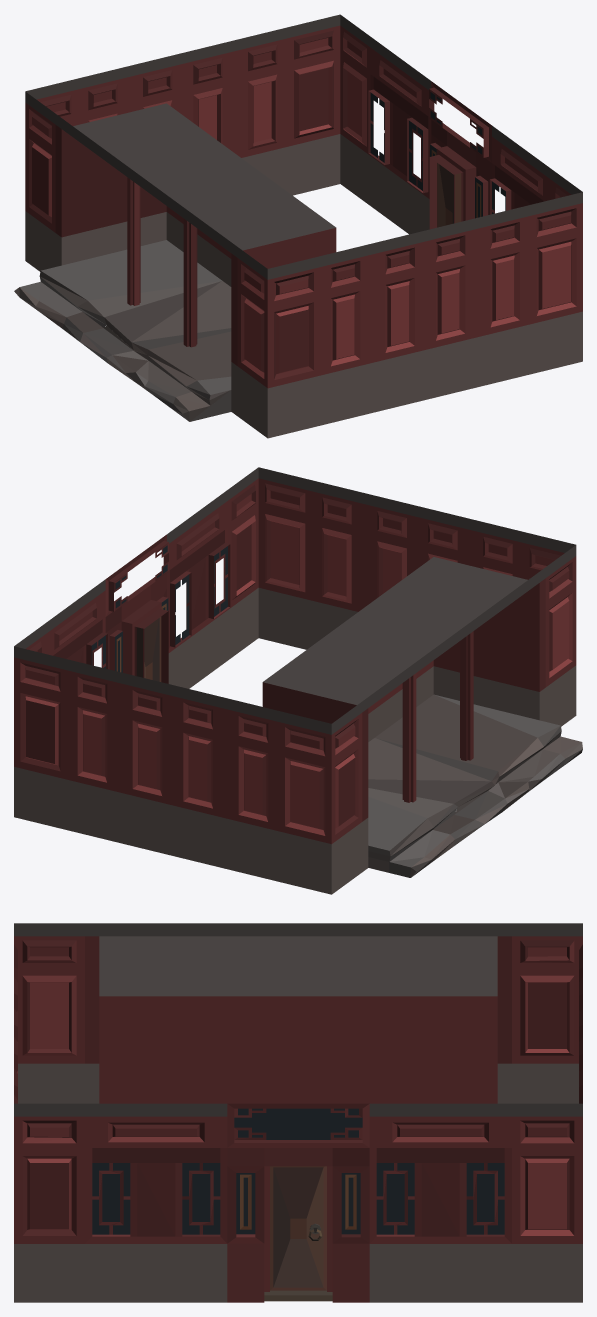
File: BuildingA-Sm_C.fbx
3 views of the same model, one above another, from view 1: azimuth 30°, elevation 25°; view 2: azimuth 150°, elevation 25°; view 3: azimuth 270°, elevation 25° (orthographic). The views are drawn at different scales.
Visible parts, largest first — view 1: BuildingA-Sm_C; view 2: BuildingA-Sm_C; view 3: BuildingA-Sm_C.
Boxes of the visible parts, x1,y1,x2,y2 form: BuildingA-Sm_C: (14,14,582,438); BuildingA-Sm_C: (14,467,582,894); BuildingA-Sm_C: (14,923,582,1302).
Size of the model in its own units: 865 by 386 by 1000.
